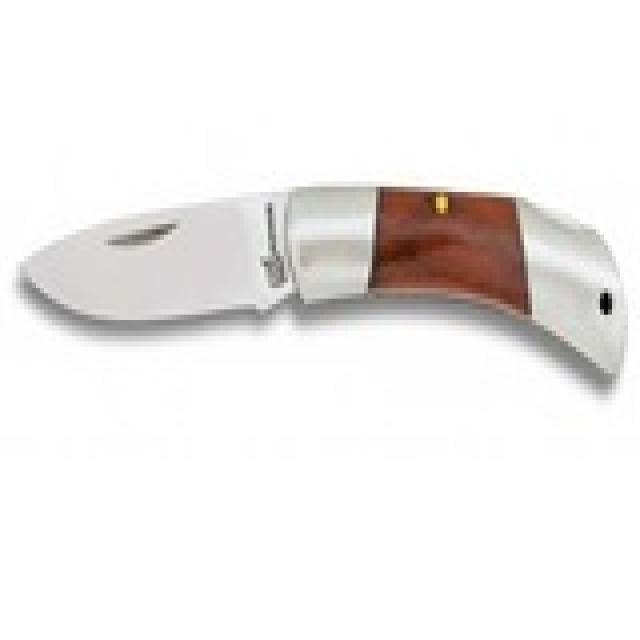Knife: (16, 160, 634, 390)
